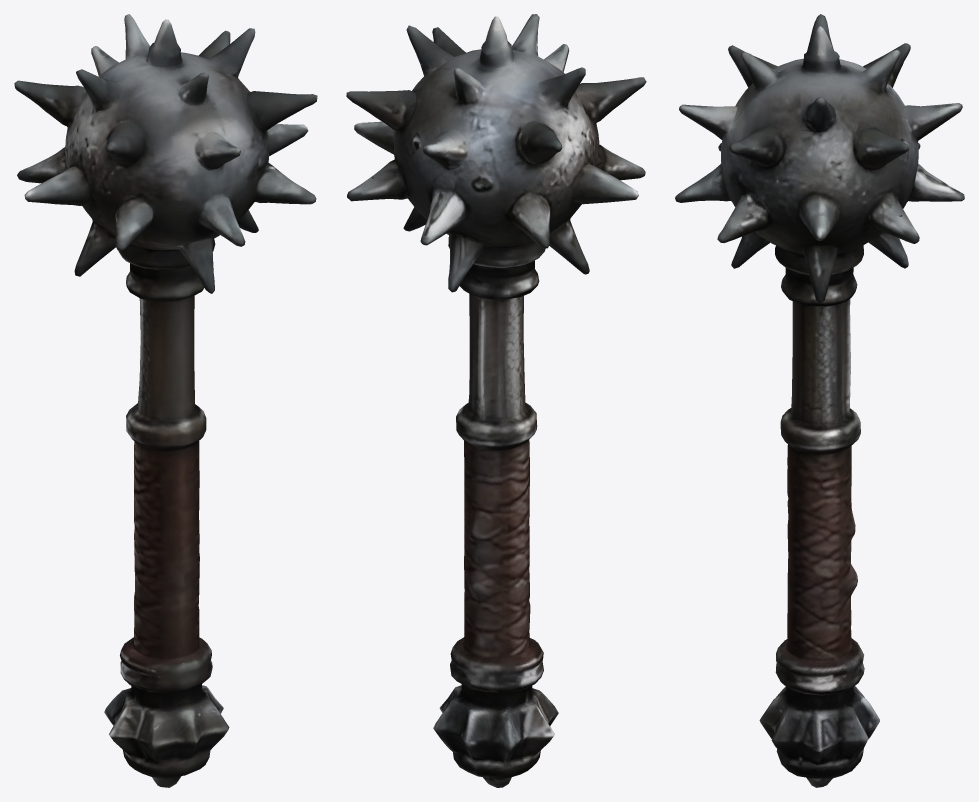
File: iron_morning_star.glb
3 renders of one model, left to right at view 1: azimuth 30°, elevation 25°; view 2: azimuth 150°, elevation 25°; view 3: azimuth 270°, elevation 25°, orthographic.
Parts seen in each view (by area): view 1: iron_morning_star; view 2: iron_morning_star; view 3: iron_morning_star.
Boxes of the visible parts, x1,y1,x2,y2 form: iron_morning_star: [14, 14, 317, 787]; iron_morning_star: [346, 14, 646, 787]; iron_morning_star: [675, 14, 964, 787].
Size of the model in its own units: 0.2856 by 0.7427 by 0.2563.
1 material, 1 textured.
